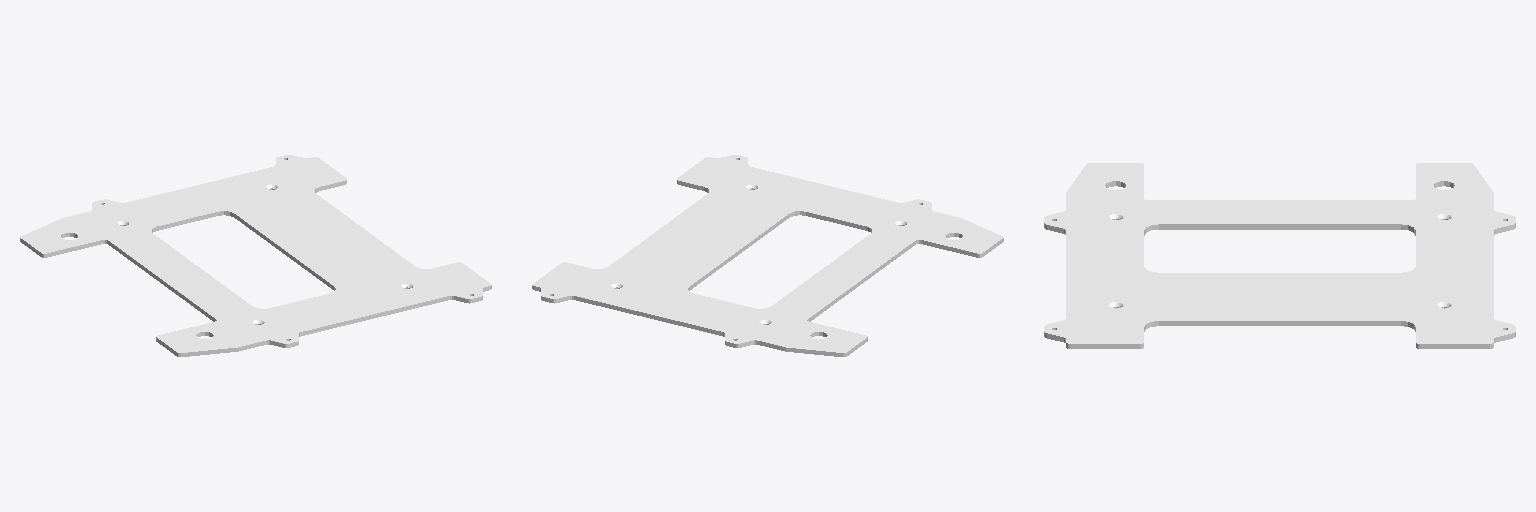
robot.urdf — autokit:
<?xml version="1.0" encoding="utf-8"?>
<!-- This URDF was automatically created by SolidWorks to URDF Exporter! Originally created by [author] ([email redacted]) 
     Commit Version: 1.6.0-4-g7f85cfe  Build Version: 1.6.7995.38578
     For more information, please see http://wiki.ros.org/sw_urdf_exporter -->
<robot
  name="autokit">
  <link
    name="base_link">
    <inertial>
      <origin
        xyz="-0.038031 0.0016881 -0.0020016"
        rpy="0 0 0" />
      <mass
        value="0.22345" />
      <inertia
        ixx="0.0023212"
        ixy="-2.1163E-19"
        ixz="-2.2447E-10"
        iyy="0.001413"
        iyz="2.9796E-21"
        izz="0.0037336" />
    </inertial>
    <visual>
      <origin
        xyz="0 0 0"
        rpy="0 0 0" />
      <geometry>
        <mesh
          filename="package://autokit/meshes/base_link.STL" />
      </geometry>
      <material
        name="">
        <color
          rgba="1 1 1 1" />
      </material>
    </visual>
    <collision>
      <origin
        xyz="0 0 0"
        rpy="0 0 0" />
      <geometry>
        <mesh
          filename="package://autokit/meshes/base_link.STL" />
      </geometry>
    </collision>
  </link>
  <link
    name="box_Link">
    <inertial>
      <origin
        xyz="0.0052382 0.0061354 0.26841"
        rpy="0 0 0" />
      <mass
        value="5.464" />
      <inertia
        ixx="0.038343"
        ixy="0.00011246"
        ixz="0.0086934"
        iyy="0.049652"
        iyz="-8.1245E-05"
        izz="0.049073" />
    </inertial>
    <visual>
      <origin
        xyz="0 0 0"
        rpy="0 0 0" />
      <geometry>
        <mesh
          filename="package://autokit/meshes/autokit_2.dae" />
      </geometry>
      <material
        name="">
        <color
          rgba="1 1 1 1" />
      </material>
    </visual>
    <collision>
      <origin
        xyz="0 0 0"
        rpy="0 0 0" />
      <geometry>
        <mesh
          filename="package://autokit/meshes/box_Link.STL" />
      </geometry>
    </collision>
  </link>
  <joint
    name="box_joint"
    type="prismatic">
    <origin
      xyz="0 0 0"
      rpy="0 0 0" />
    <parent
      link="base_link" />
    <child
      link="box_Link" />
    <axis
      xyz="-1 0 0" />
    <limit
      lower="0"
      upper="0"
      effort="0"
      velocity="0" />
  </joint>
</robot>

--- Render facts (derived) ---
The picture shows the robot from 3 angles, left to right: view 1: azimuth 30°, elevation 25°; view 2: azimuth 150°, elevation 25°; view 3: azimuth 270°, elevation 25°; orthographic projection.
Model autokit with 2 links and 1 joints (1 prismatic), rooted at base_link, posed every joint at zero.
Visible links, largest first — view 1: base_link; view 2: base_link; view 3: base_link.
Boxes of the visible links, <box> form: base_link: <box>20,155,491,356</box>; base_link: <box>532,155,1003,356</box>; base_link: <box>1044,163,1515,348</box>.
Bounding box of the posed robot: 0.3 × 0.33 × 0.004 m (x, y, z).
1 mesh visuals loaded from 2 distinct referenced files (1 binary STL); not drawn: 1 (reference not matched to a file when rendering).